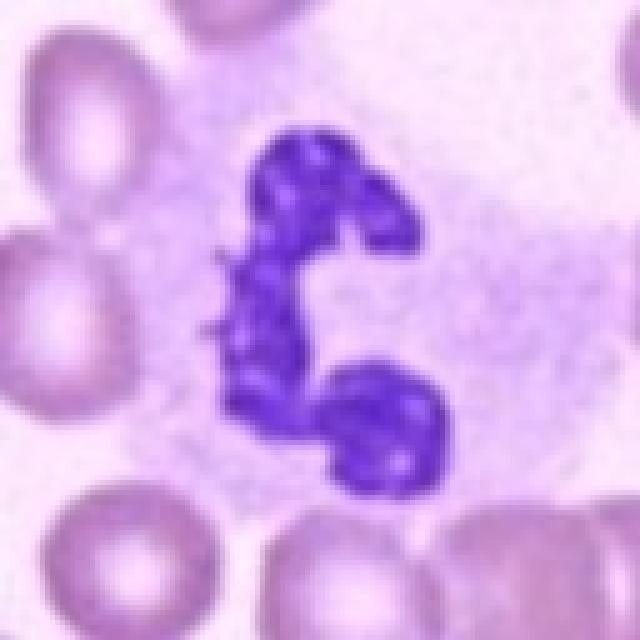neutro: (87, 102, 492, 583)
